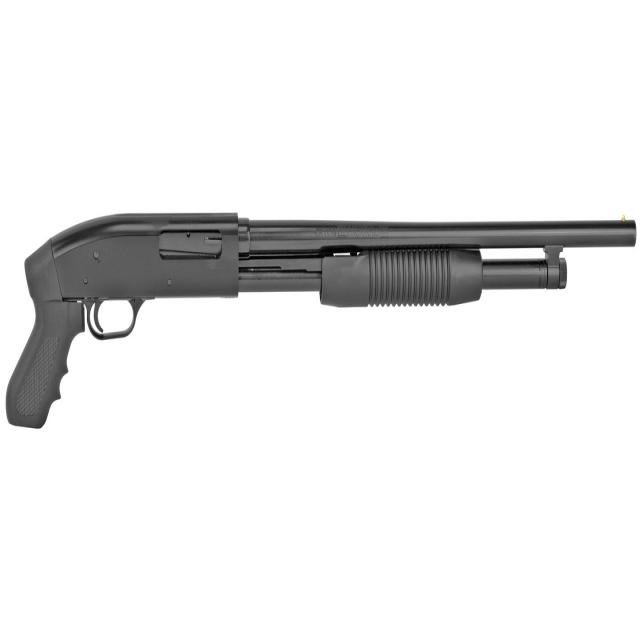ShotGun: (4, 211, 640, 430)
